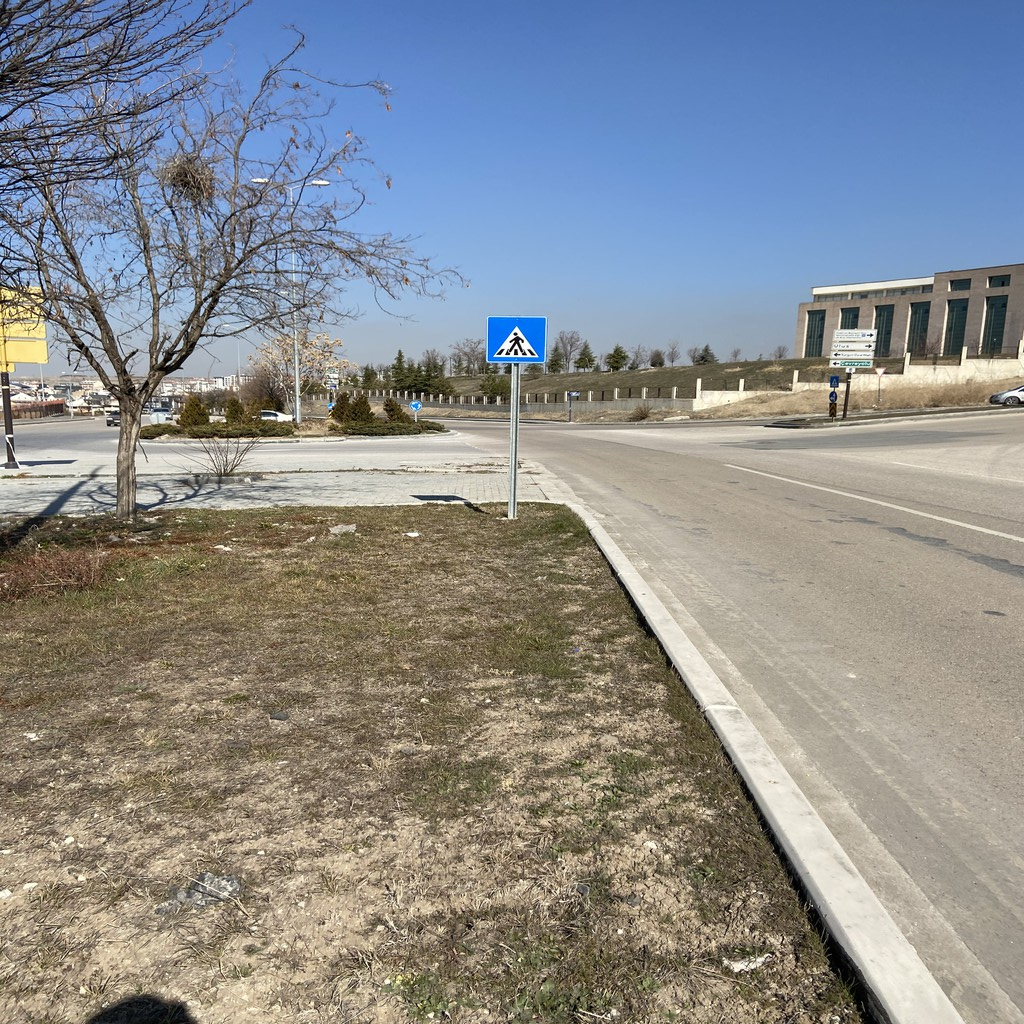Yaya Gecidi: (491, 318, 549, 364)
